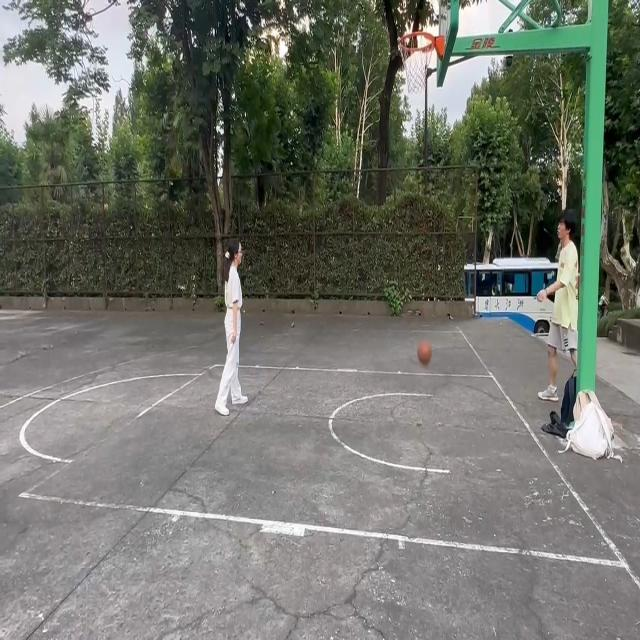basketball: (400, 35, 449, 97)
rim: (417, 341, 432, 365)
